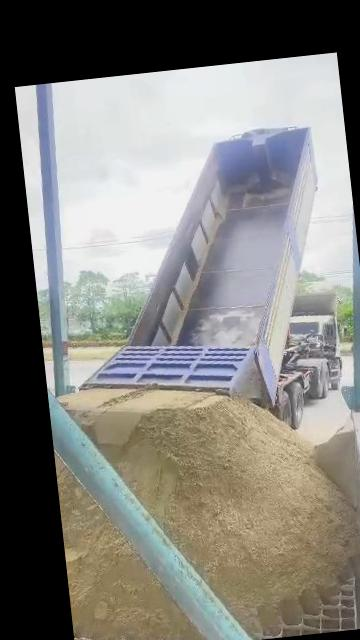sand: (58, 366, 357, 632), (57, 461, 198, 640), (314, 418, 360, 509)
